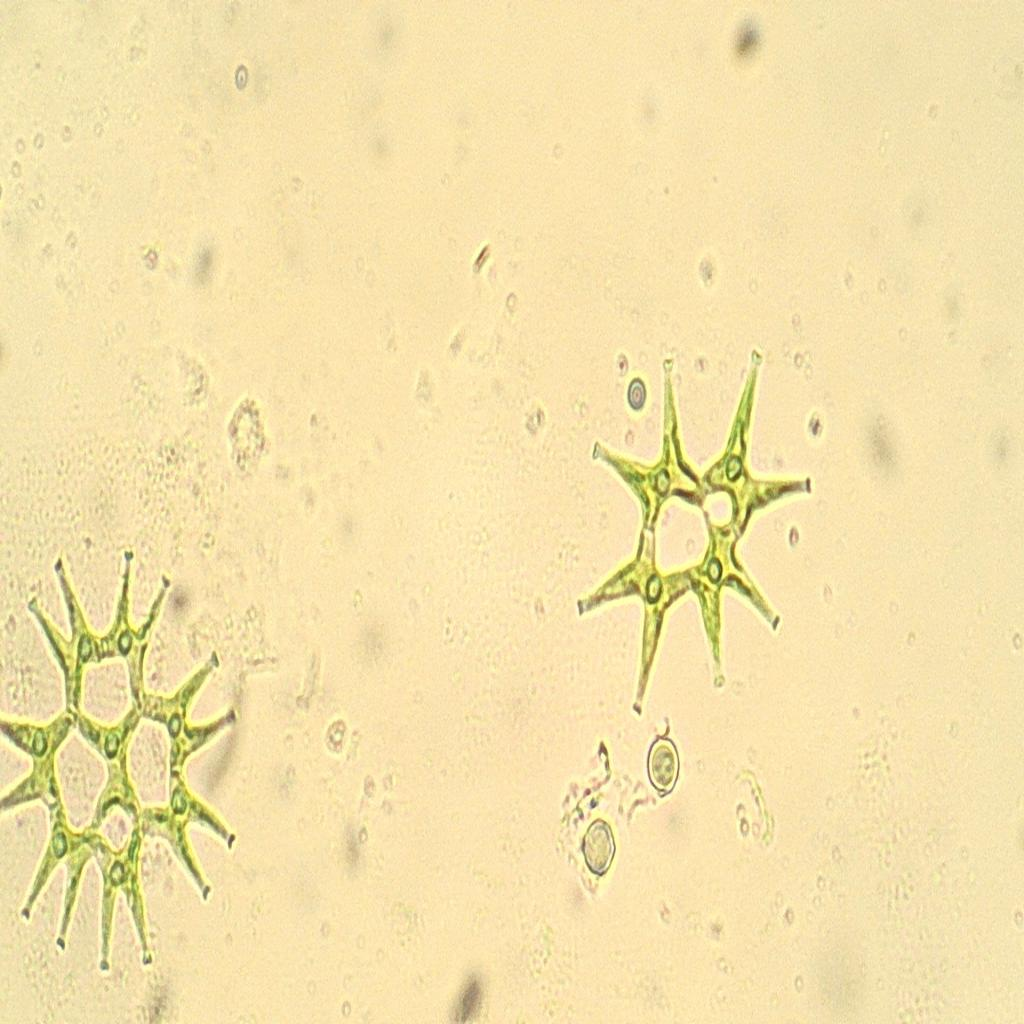Pediastrum_CF: (566, 339, 823, 731)
